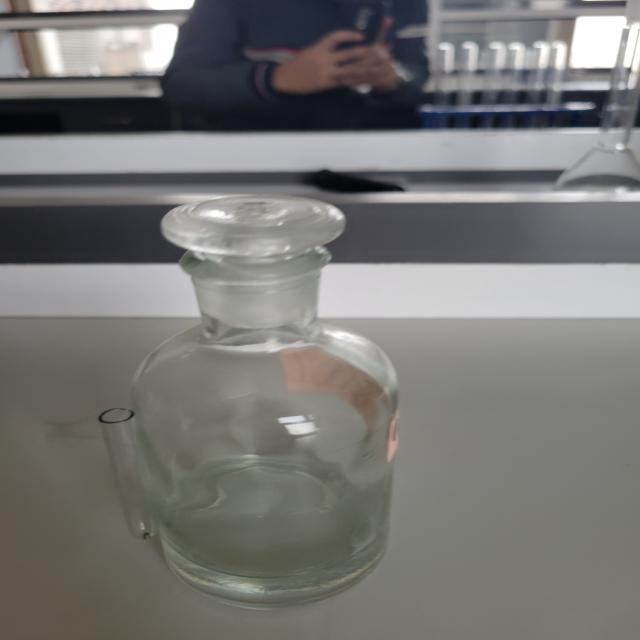Reagent_Bottle: (47, 144, 482, 624)
